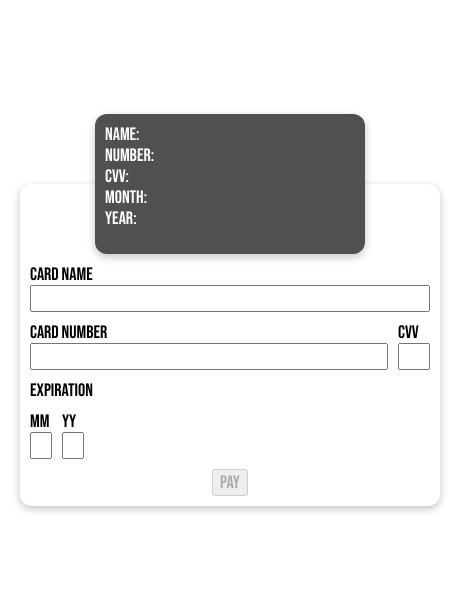
Test: root credit card form › fills out entire form incorrectly
This screenshot has width=461, height=608.
Expected: the button with id "submitButton" is disabled, [212, 469, 248, 496]
Type "Ri" into the field below "Card name" at (230, 299), box [30, 285, 430, 312]
Then press Backspace
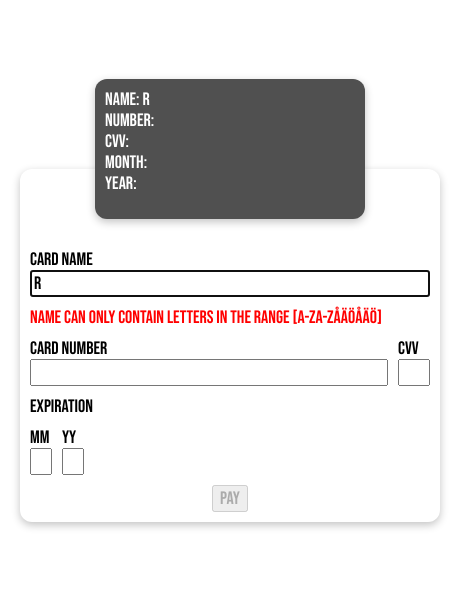
Now the text "Name can only contain letters in the range [a-zA-ZåäöÅÄÖ]" is shown, box [30, 306, 430, 328]
Type "471" into the field below "Card number" at (209, 373), box [30, 359, 388, 386]
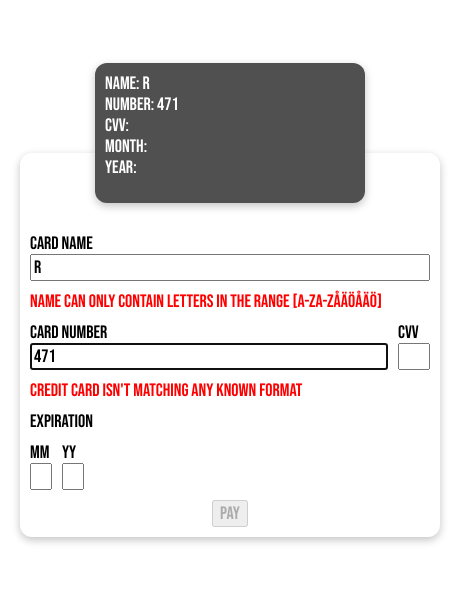
Now the text "Credit card isn't matching any known format" is shown, box [30, 380, 302, 401]
Type "99" into the 3rd field at (414, 357), box [398, 343, 430, 370]
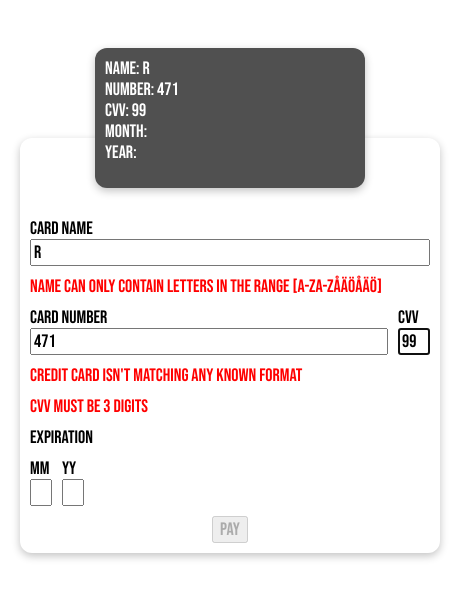
Now the text "CVV must be 3 digits" is shown, box [30, 396, 148, 416]
Type "9" into the field below "MM" at (41, 493), box [30, 479, 52, 506]
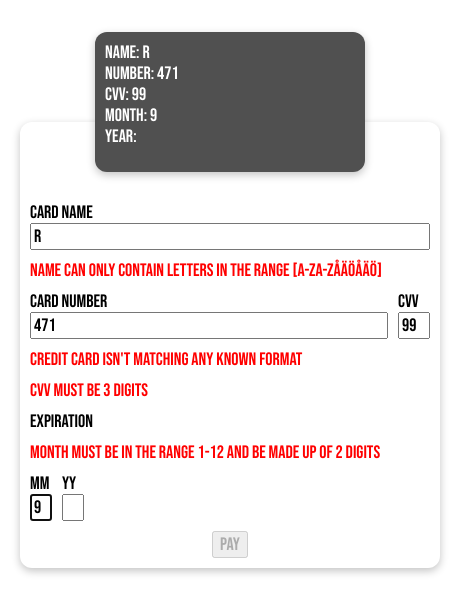
Now the text "Month must be in the range 1-12 and be made up of 2 digits" is shown, box [30, 442, 430, 463]
Type "3" into the field below "YY" at (73, 508), box [62, 494, 84, 521]
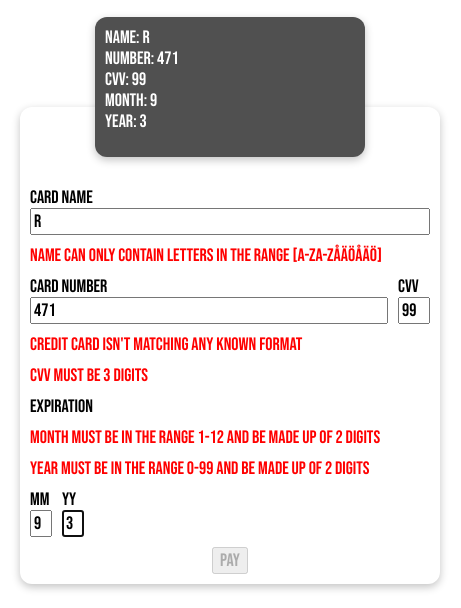
Expected: the button with id "submitButton" is disabled, [212, 547, 248, 574]
Now the text "Year must be in the range 0-99 and be made up of 2 digits" is shown, box [30, 458, 370, 478]
